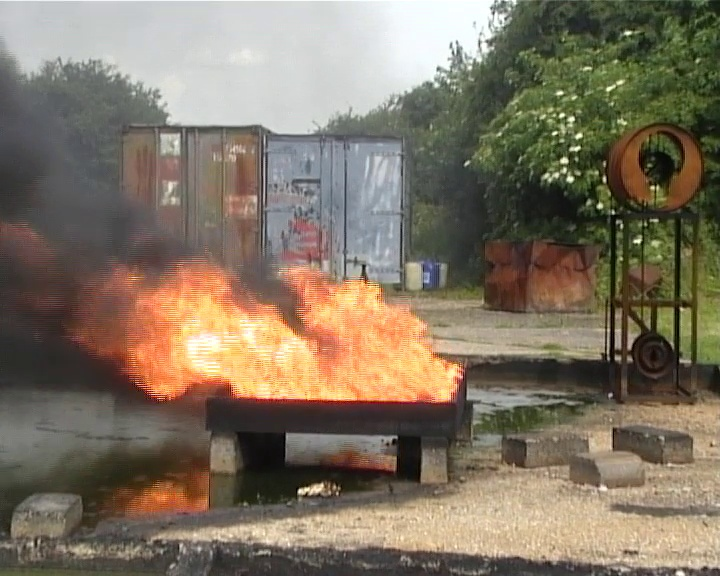fire: (128, 269, 464, 399)
